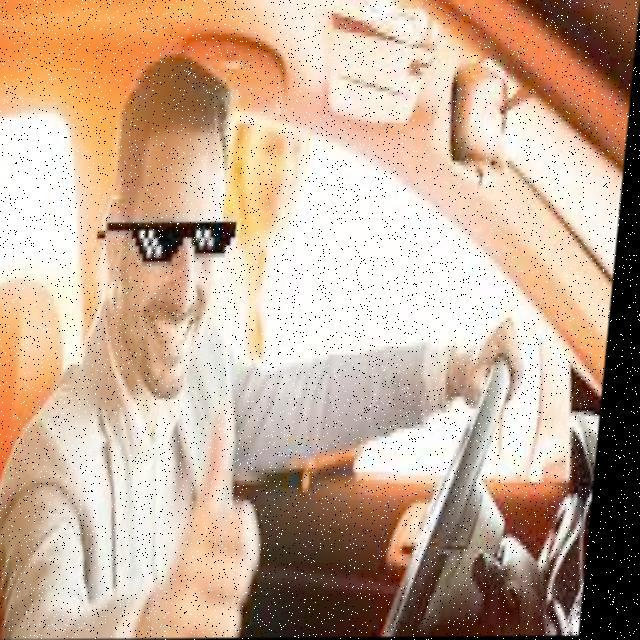noSeatbelt: (0, 288, 283, 640)
